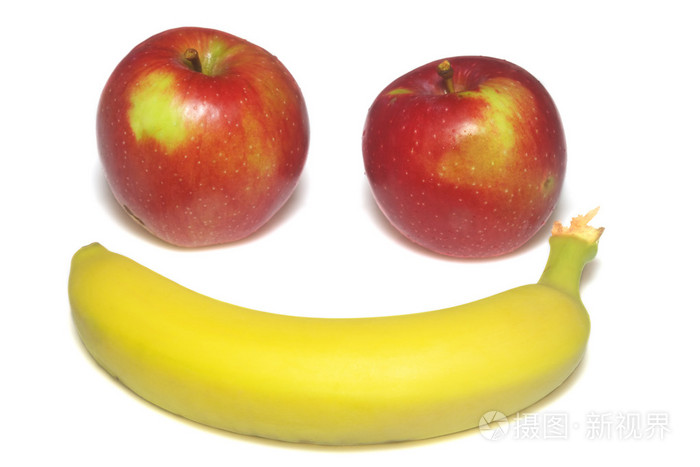apple: (96, 26, 308, 249), (362, 56, 566, 259)
banana: (67, 232, 599, 447)
